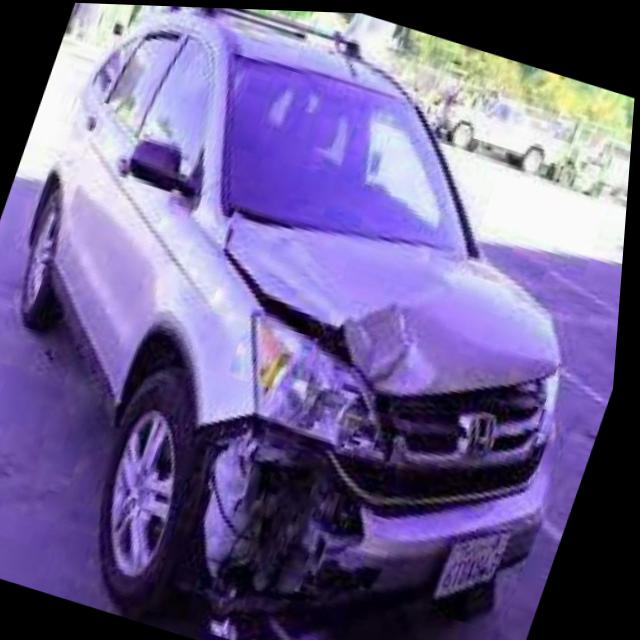Car-Damage: (116, 207, 483, 640)
